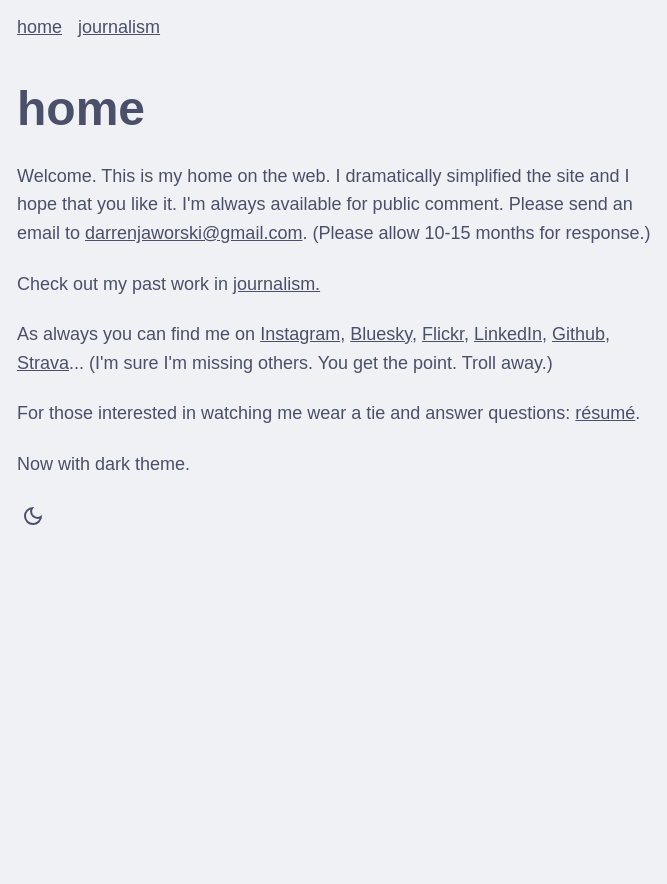
Test: App › navigates to journalism page when link is clicked
Click the link "journalism" at (119, 27), box [78,17,160,37]
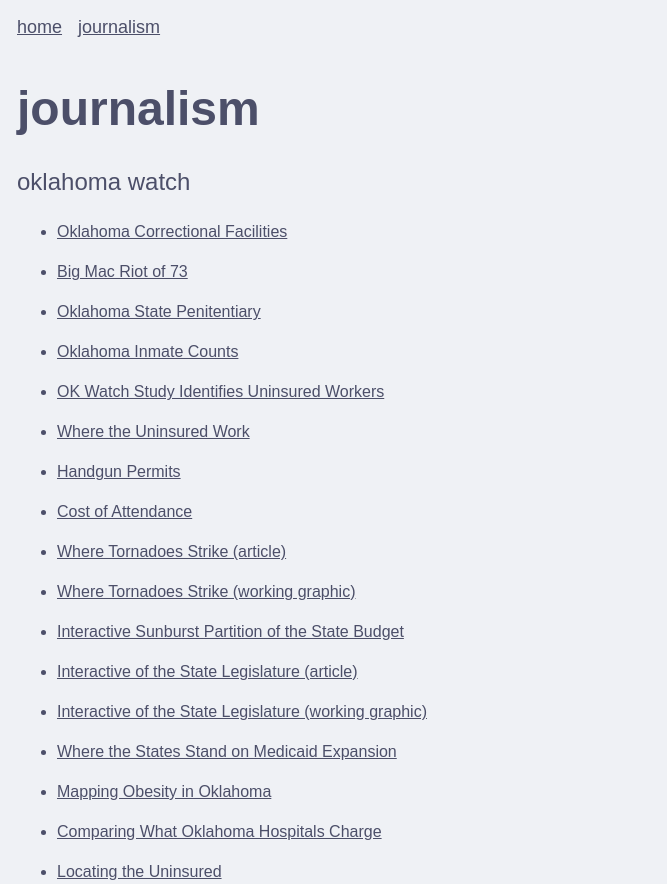
Check: the heading "journalism" is shown, box [17,82,260,135]
Check: the heading "oklahoma watch" is shown, box [17,168,190,195]
